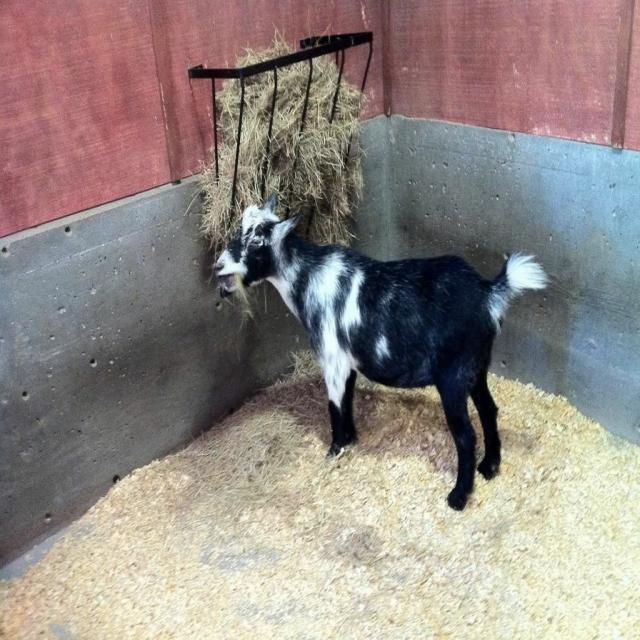Goat: (212, 190, 548, 511)
